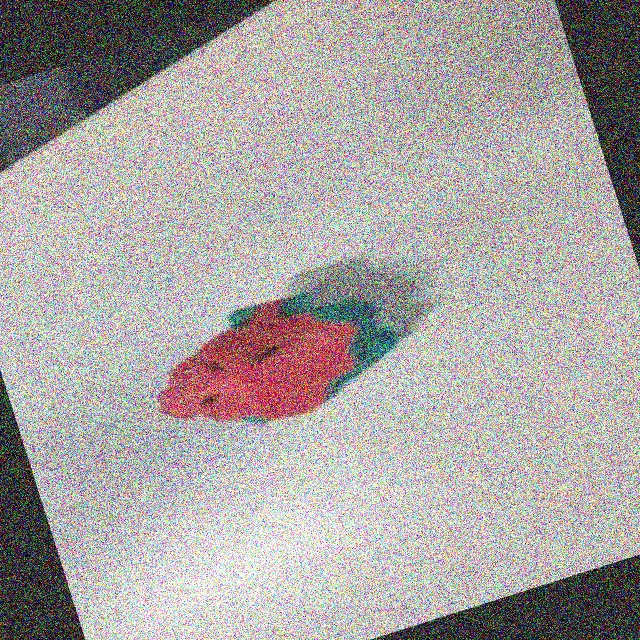House: (133, 259, 429, 458)
